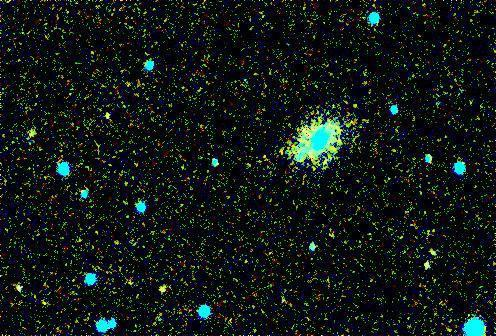star: (289, 136, 319, 166)
